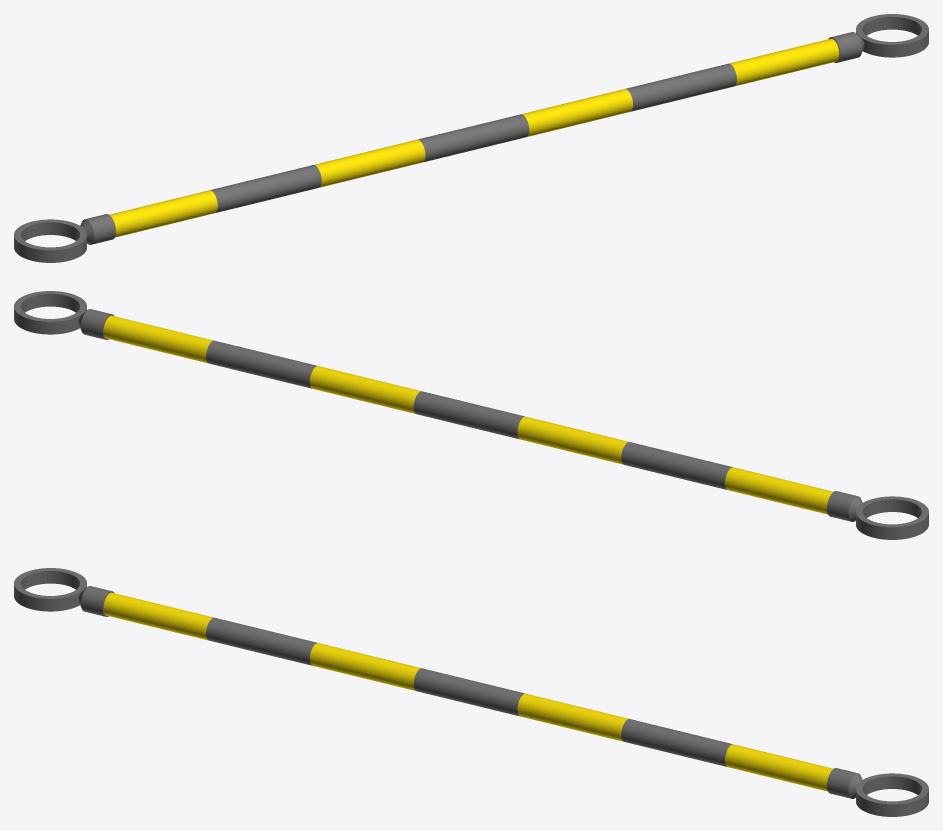
The model's file is 695_コーンバー1.5m.glb.
3 views of the same model, one above another, from view 1: azimuth 30°, elevation 25°; view 2: azimuth 150°, elevation 25°; view 3: azimuth 330°, elevation 25° (orthographic).
Visible parts, largest first — view 1: Body; view 2: Body; view 3: Body.
Boxes of the visible parts, x1,y1,x2,y2 form: Body: (14, 14, 928, 262); Body: (14, 291, 928, 539); Body: (14, 568, 928, 816).
Size of the model in its own units: 1.5 by 0.038 by 0.105.
